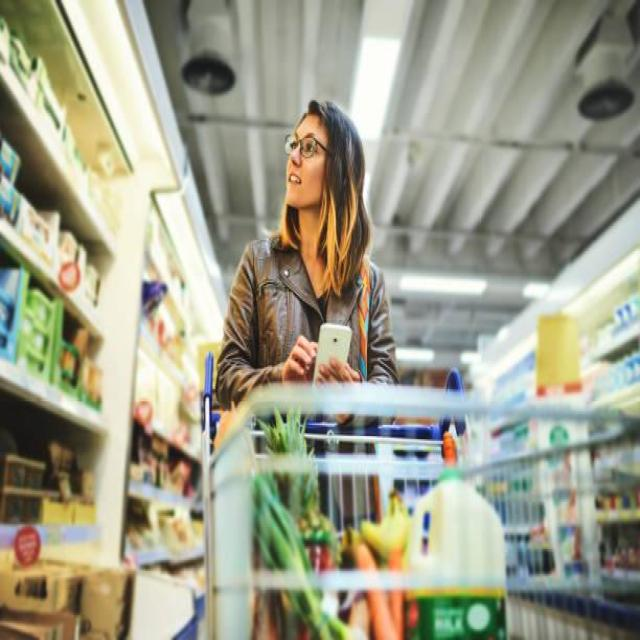hands: (282, 336, 317, 381)
person: (216, 100, 397, 409)
